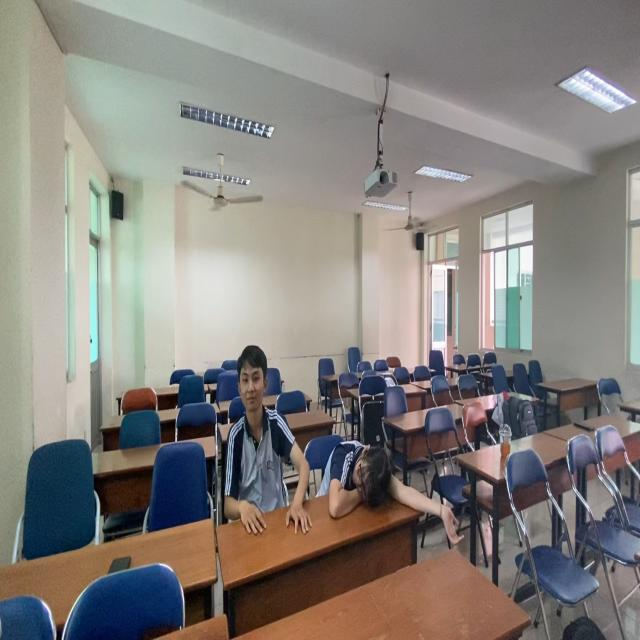sleep: (321, 426, 464, 549)
